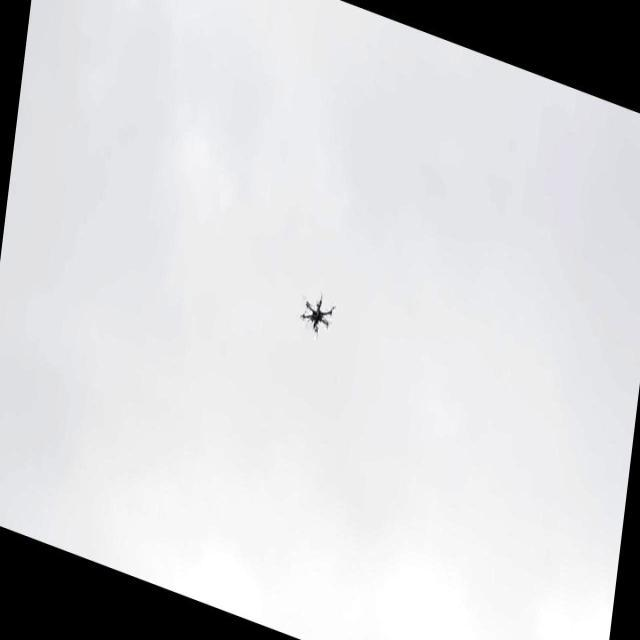drone: (298, 283, 338, 345)
